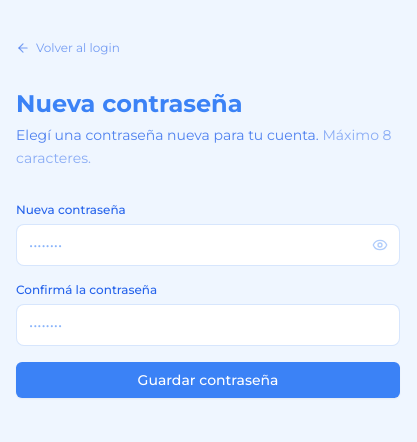
Test: NuevaPasswordPage › con token en la URL › debería mostrar error si la contraseña supera 8 caracteres
In the password field with id "clave": (208, 245) x1=16 y1=224 x2=400 y2=266, type "muylargas"
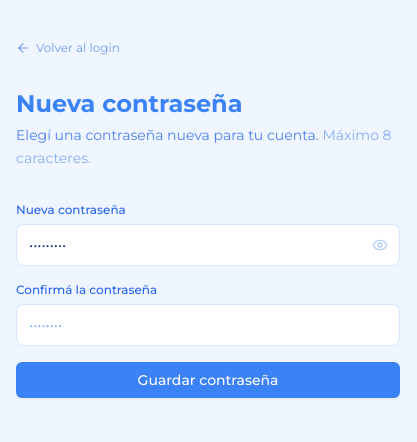
In the password field with id "confirm": (208, 325) x1=16 y1=304 x2=400 y2=346, type "muylargas"
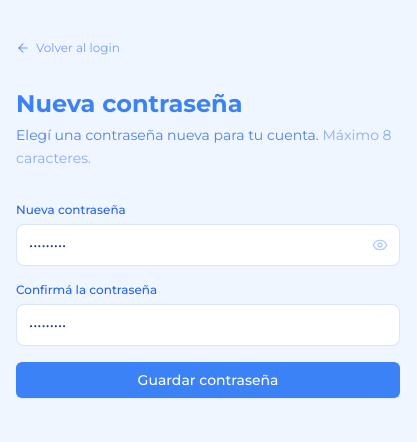
Submit the form, box x1=16 y1=202 x2=400 y2=398
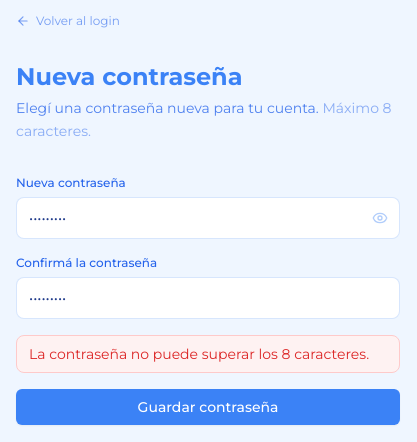
Result: the text "La contraseña no puede superar los 8 caracteres." is shown at x1=16 y1=335 x2=400 y2=373
